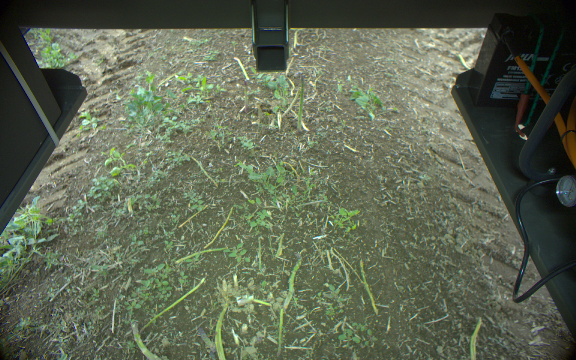aspa: (128, 318, 166, 360), (357, 259, 378, 318), (285, 257, 303, 308), (214, 301, 228, 360), (466, 316, 484, 360), (295, 75, 308, 129), (231, 54, 249, 83), (276, 308, 285, 360), (198, 327, 213, 350)
